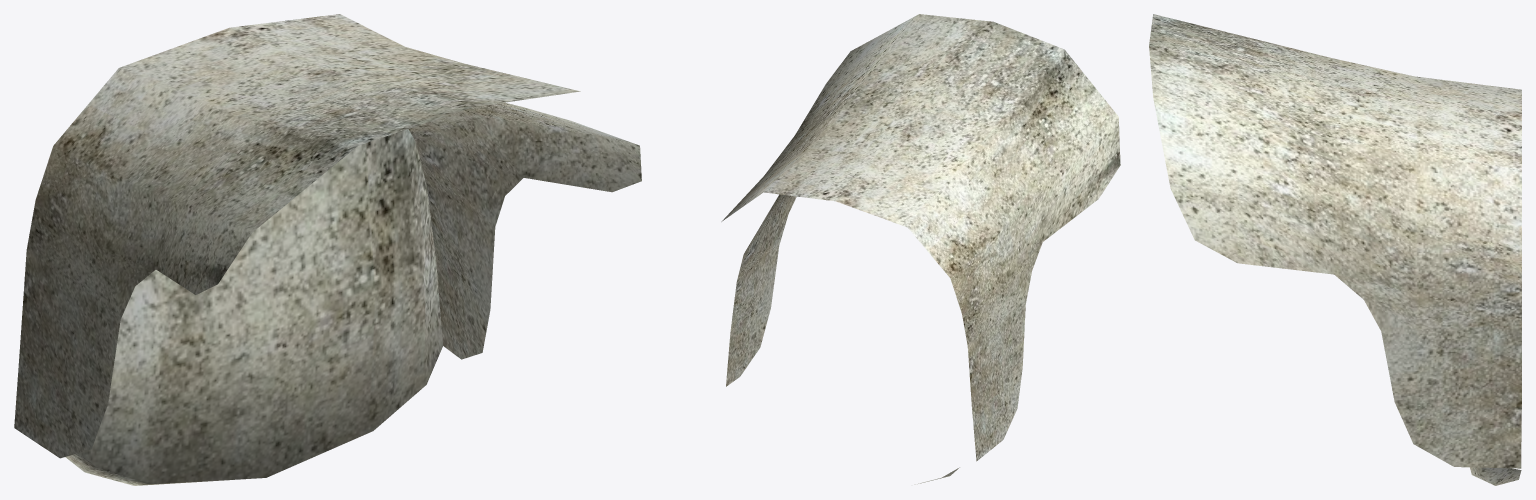
The model's file is furniture_duhoc_armchair_dirty_red.glb.
3 renders of one model, left to right at view 1: azimuth 30°, elevation 25°; view 2: azimuth 150°, elevation 25°; view 3: azimuth 270°, elevation 25°, orthographic. The views are drawn at different scales.
Size of the model in its own units: 33.02 by 37.48 by 30.93.
Materials: 1 (1 with a texture image).
